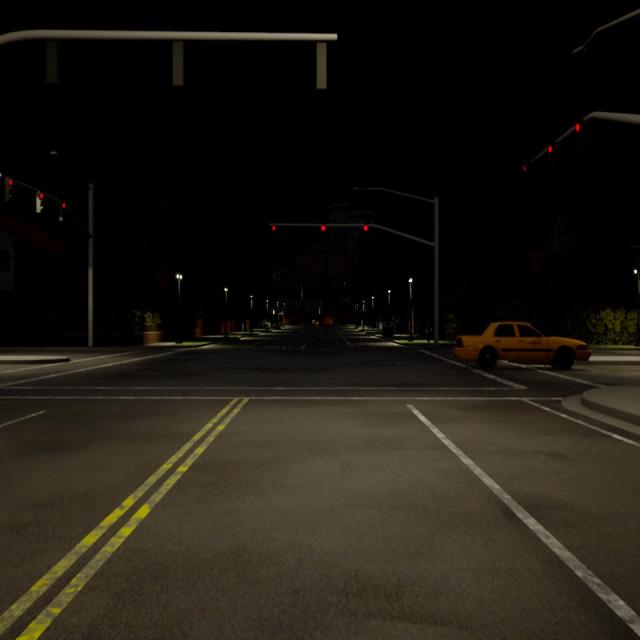Pedestrian: (426, 323, 432, 342)
Vehicle: (453, 322, 590, 369)
traffic_light: (316, 41, 327, 88), (173, 40, 183, 85), (46, 38, 56, 82), (5, 177, 12, 201), (59, 201, 66, 221), (36, 192, 42, 212), (320, 224, 326, 232), (364, 224, 368, 232), (576, 124, 580, 131), (272, 225, 276, 231), (523, 166, 526, 172), (549, 146, 552, 152)
